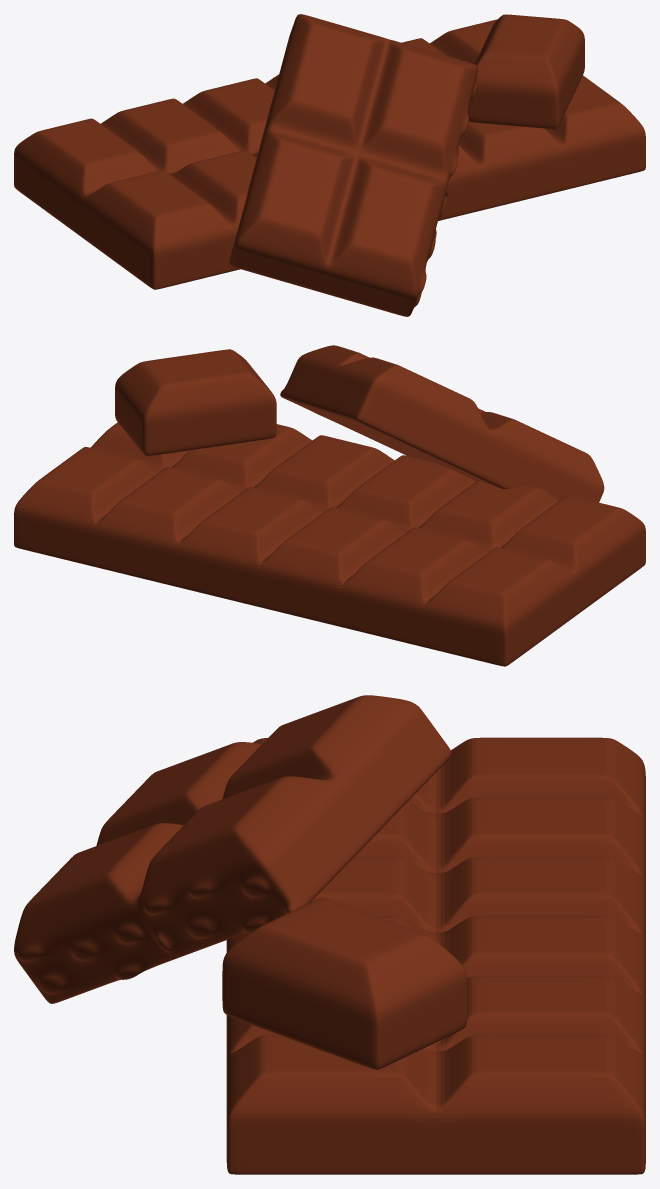
File: chocolate-bar-3d-icon-1478274415249.glb
3 views of the same model, one above another, from view 1: azimuth 30°, elevation 25°; view 2: azimuth 150°, elevation 25°; view 3: azimuth 270°, elevation 25° (orthographic). The views are drawn at different scales.
Parts seen in each view (by area): view 1: Chocolate 1, Chocolate 3, Chocolate 2; view 2: Chocolate 1, Chocolate 3, Chocolate 2; view 3: Chocolate 1, Chocolate 3, Chocolate 2.
Boxes of the visible parts, left/top/right/bottom form: Chocolate 1: left=14, top=19, right=645, bottom=289; Chocolate 3: left=229, top=14, right=477, bottom=316; Chocolate 2: left=468, top=14, right=584, bottom=128; Chocolate 1: left=14, top=422, right=645, bottom=666; Chocolate 3: left=280, top=345, right=604, bottom=502; Chocolate 2: left=115, top=349, right=276, bottom=455; Chocolate 1: left=226, top=737, right=645, bottom=1174; Chocolate 3: left=14, top=695, right=451, bottom=1003; Chocolate 2: left=222, top=897, right=467, bottom=1069.
Size of the model in its own units: 1.98 by 0.8147 by 1.48.
